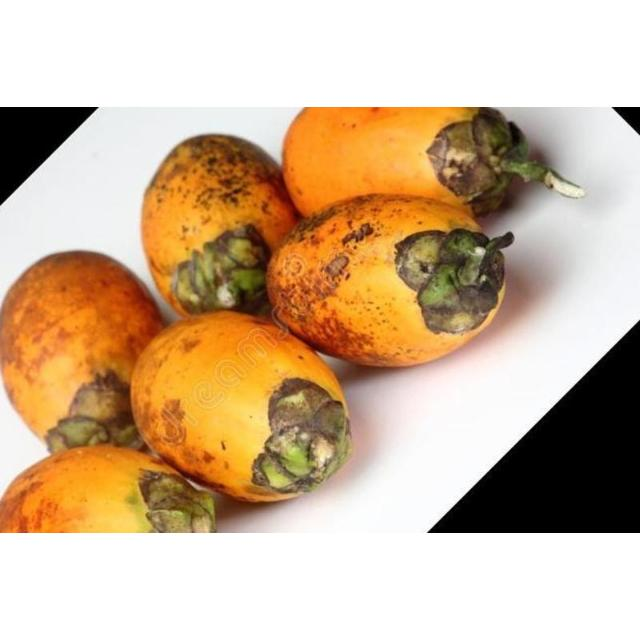good: (0, 107, 530, 533)
